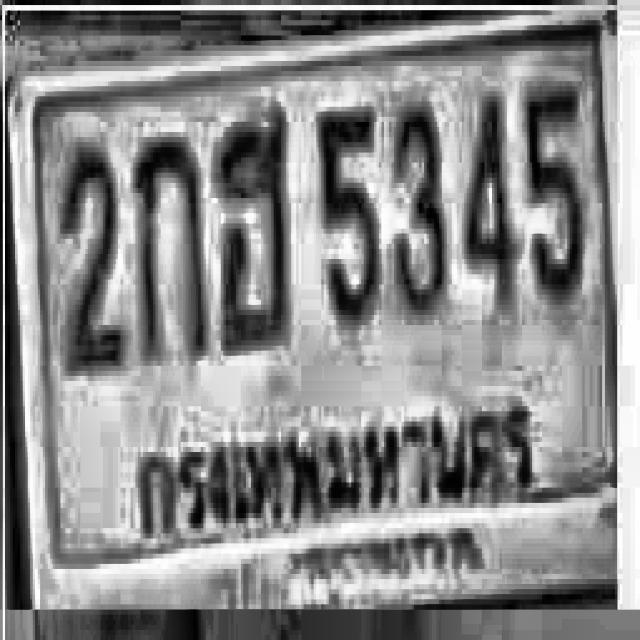license-plate: (0, 5, 630, 610)
